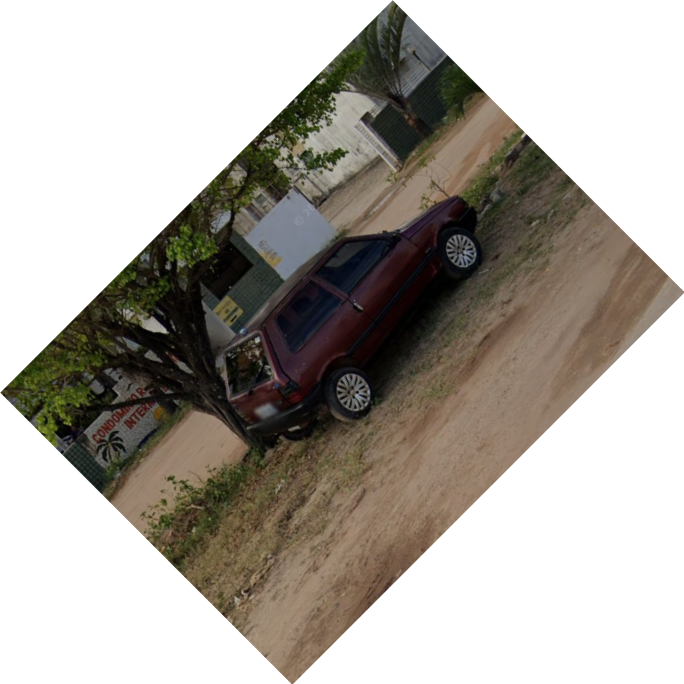car: (219, 193, 484, 446)
